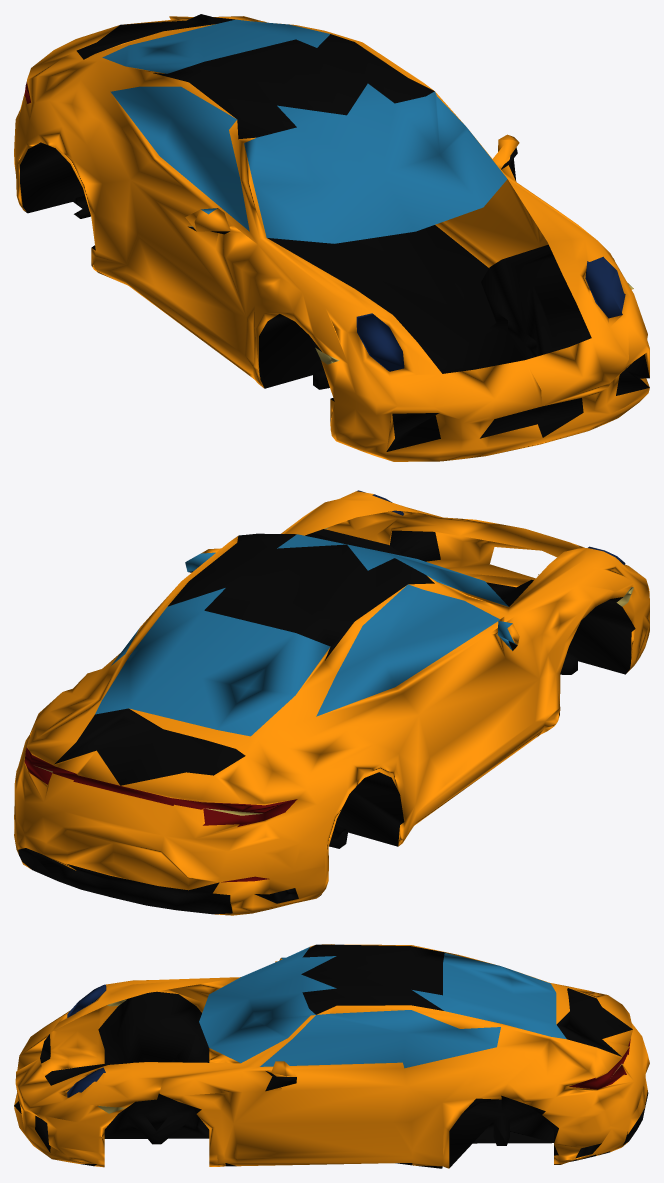
Rendered from porsche.obj.
3 renders of one model, top to bottom at view 1: azimuth 30°, elevation 25°; view 2: azimuth 150°, elevation 25°; view 3: azimuth 270°, elevation 25°, orthographic. The views are drawn at different scales.
Visible parts, largest first — view 1: Body; view 2: Body; view 3: Body.
Part boxes in pixels (x1,y1,x2,y2): Body: (14, 14, 649, 461); Body: (14, 490, 649, 915); Body: (14, 944, 649, 1168).
Size of the model in its own units: 8.81 by 5.04 by 20.13.
